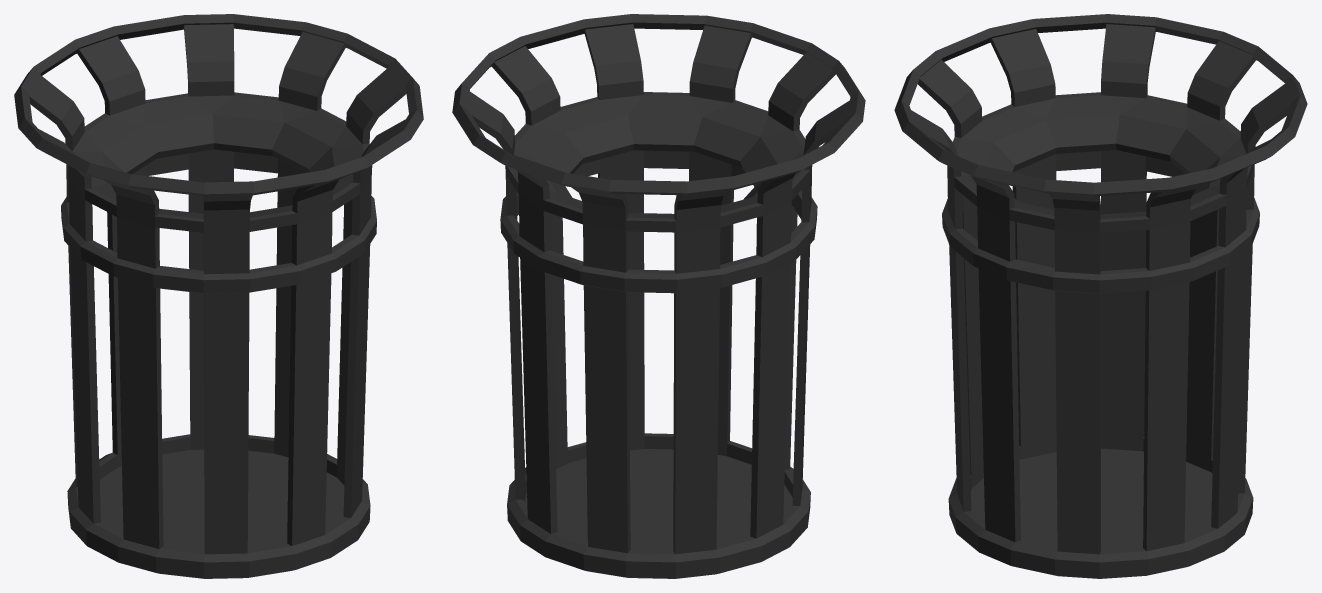
File: Ext_Bin01.fbx
3 renders of one model, left to right at view 1: azimuth 30°, elevation 25°; view 2: azimuth 150°, elevation 25°; view 3: azimuth 270°, elevation 25°, orthographic.
Parts seen in each view (by area): view 1: Ext_Bin01; view 2: Ext_Bin01; view 3: Ext_Bin01.
Boxes of the visible parts, x1=… form: Ext_Bin01: x1=14, y1=14, x2=423, y2=578; Ext_Bin01: x1=452, y1=14, x2=865, y2=578; Ext_Bin01: x1=894, y1=14, x2=1307, y2=578.
Size of what is drawn, in the model's own units: 65.4 by 65.4 by 73.38.
